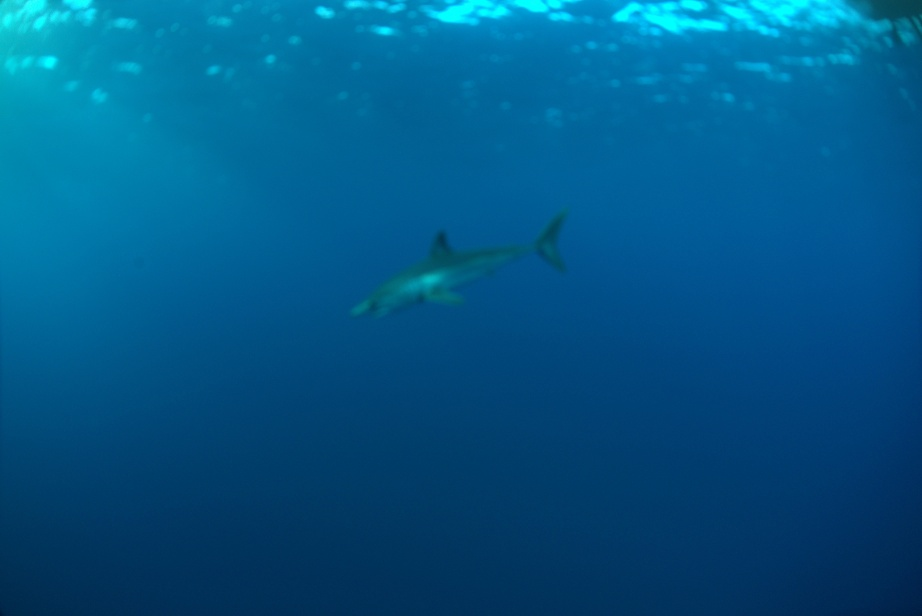Mako: (345, 201, 587, 322)
